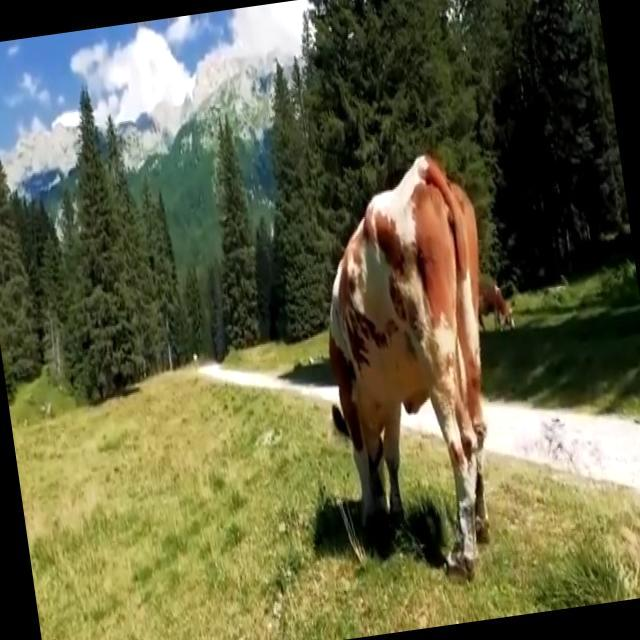COW: (329, 155, 488, 576)
